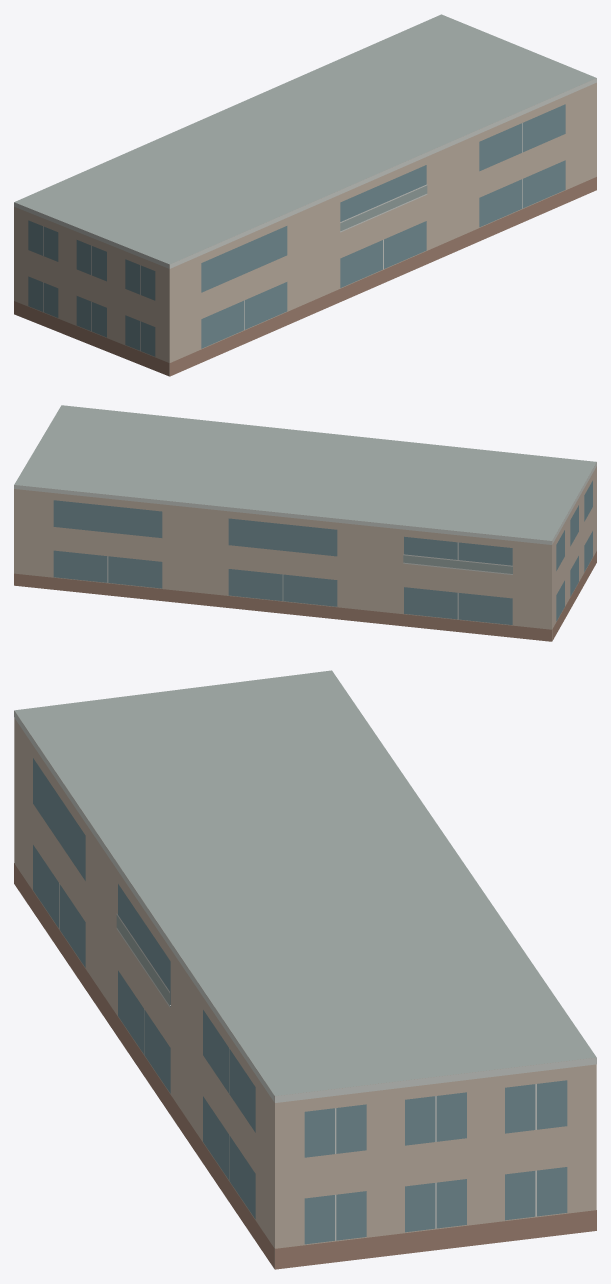
Rendered from survey-upis-32668371.glb.
3 renders of one model, top to bottom at view 1: azimuth 30°, elevation 25°; view 2: azimuth 150°, elevation 25°; view 3: azimuth 270°, elevation 25°, orthographic. The views are drawn at different scales.
Visible parts, largest first — view 1: survey-upis-32668371.tmp; view 2: survey-upis-32668371.tmp; view 3: survey-upis-32668371.tmp.
Part boxes in pixels (<box>): survey-upis-32668371.tmp: <box>14,14,596,376</box>; survey-upis-32668371.tmp: <box>14,405,596,641</box>; survey-upis-32668371.tmp: <box>14,670,596,1269</box>.
Bounding box in the file's own units: 32.15 × 6.1 × 18.6.
